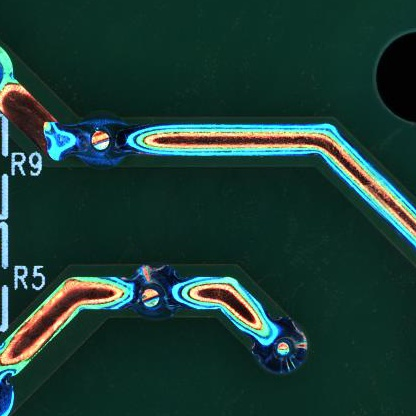spot: (252, 316, 308, 376), (68, 112, 127, 168), (129, 263, 182, 320)
